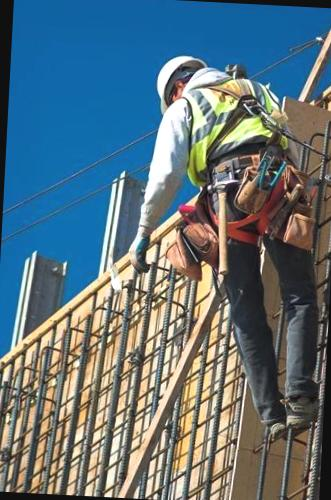person: (129, 52, 331, 443)
